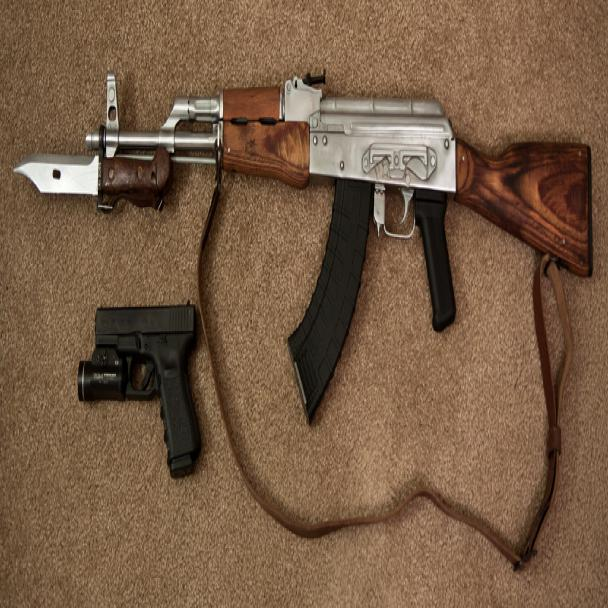Gun: (14, 48, 600, 296), (77, 297, 199, 484)
